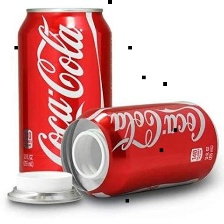can: (14, 4, 116, 181), (60, 98, 218, 199)
